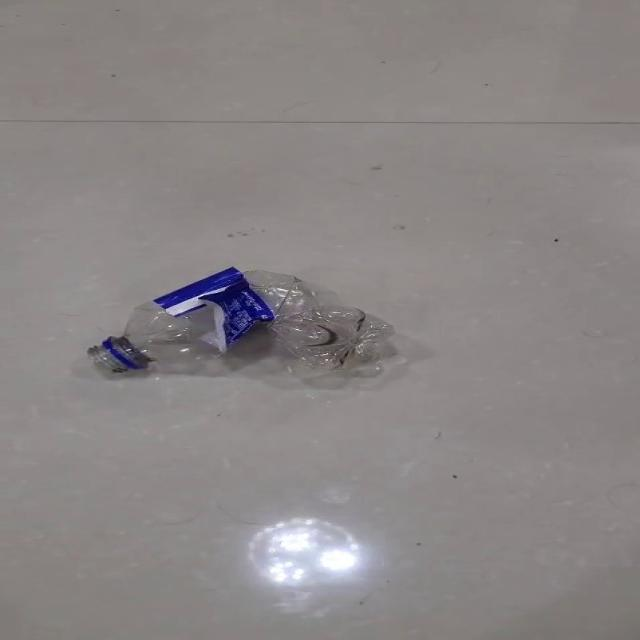plastic: (87, 266, 395, 382)
